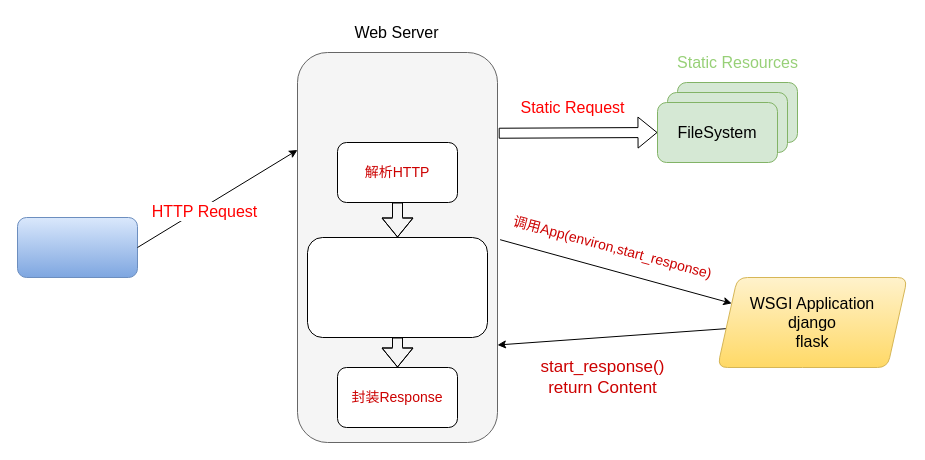
Some shapes in this 925 by 460 pixel diagram are drawn without their labels. The centre of each missing label's shape, as x and y in pixels:
"Browser" belongs at (77,247).
"WSGI模块 封装environ字典(存储http request头中的信息) 提供start_response函数" belongs at (397,287).
